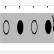correct: (17, 19, 24, 35)
no answer: (2, 19, 10, 36), (31, 18, 38, 35)
